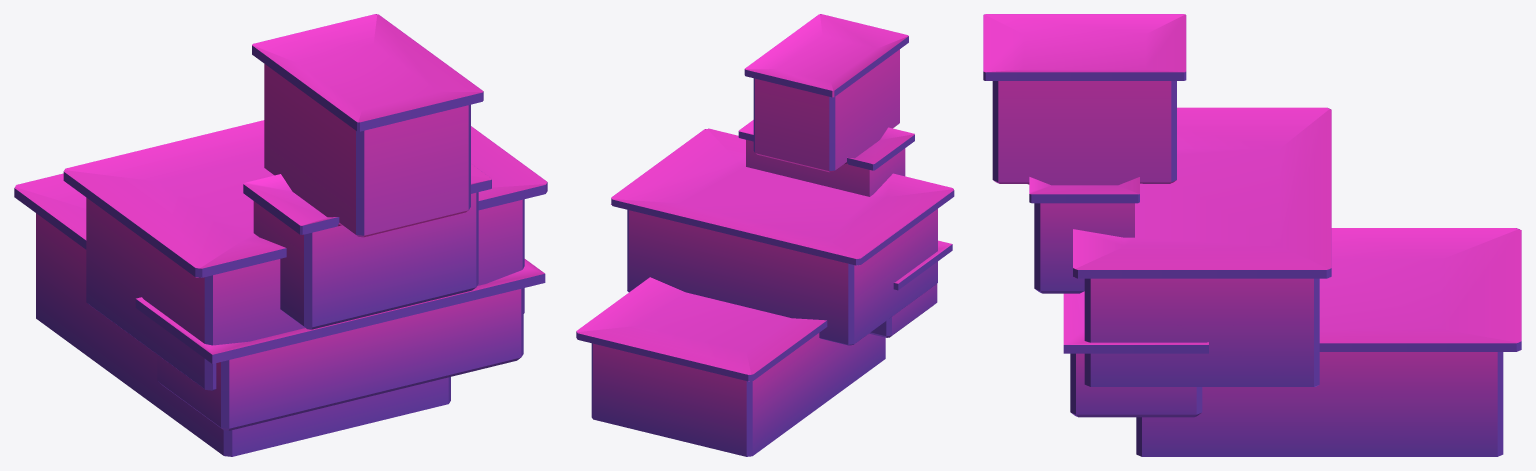
Rendered from fav7.fbx.
The picture shows the model from 3 angles, left to right: view 1: azimuth 30°, elevation 25°; view 2: azimuth 150°, elevation 25°; view 3: azimuth 270°, elevation 25°; orthographic projection. The views are drawn at different scales.
Parts seen in each view (by area): view 1: favelaBuilding_1; view 2: favelaBuilding_1; view 3: favelaBuilding_1.
Boxes of the visible parts, left/top/right/bottom form: favelaBuilding_1: left=14, top=14, right=547, bottom=456; favelaBuilding_1: left=576, top=14, right=954, bottom=456; favelaBuilding_1: left=983, top=14, right=1521, bottom=456.
Size of the model in its own units: 799 by 828 by 1118.
